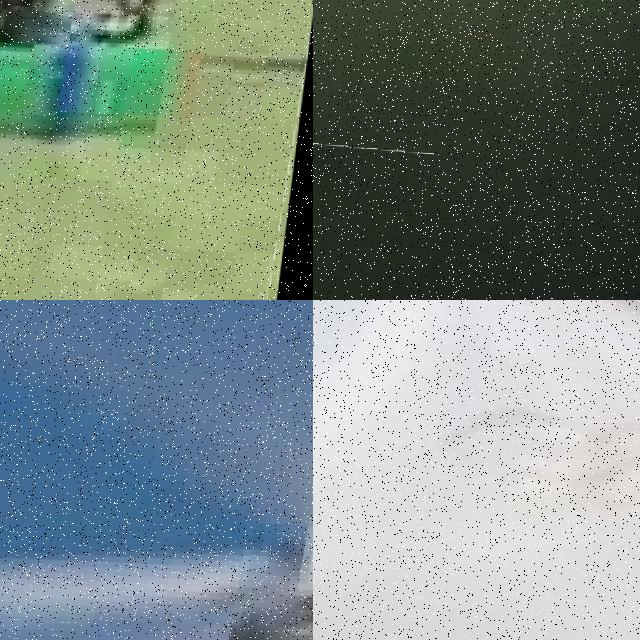drone: (313, 300, 640, 640), (0, 300, 313, 640), (0, 0, 313, 300), (313, 146, 640, 300)
